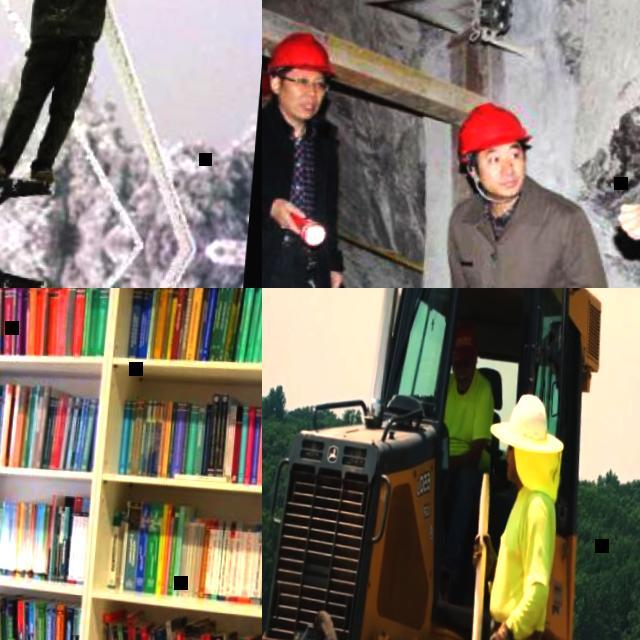helmet: (456, 96, 534, 164), (263, 28, 337, 78), (262, 74, 273, 97)
